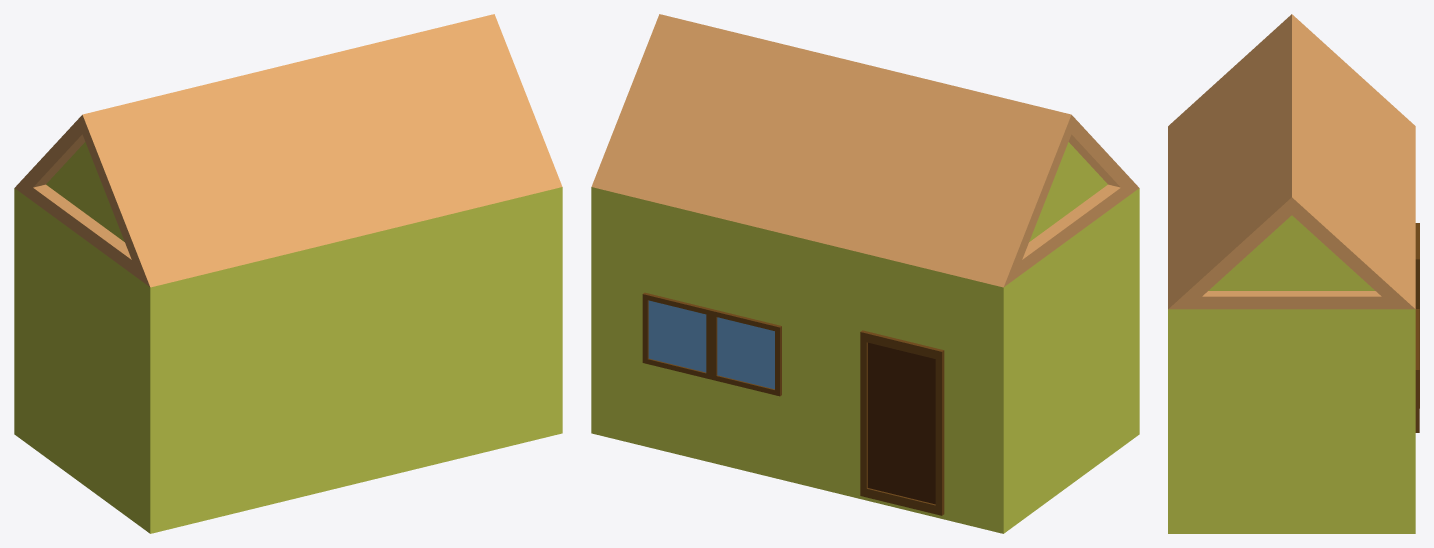
Rendered from House1.fbx.
3 renders of one model, left to right at view 1: azimuth 30°, elevation 25°; view 2: azimuth 150°, elevation 25°; view 3: azimuth 270°, elevation 25°, orthographic. The views are drawn at different scales.
Visible parts, largest first — view 1: House, Roof; view 2: House, Roof, Door, Window; view 3: Roof, House, Window, Door.
Boxes of the visible parts, x1,y1,x2,y2 form: House: (14,187,562,533); Roof: (15,14,562,287); House: (591,187,1139,533); Roof: (591,14,1138,287); Door: (860,330,944,515); Window: (642,292,781,396); Roof: (1168,14,1415,309); House: (1168,309,1415,533); Window: (1415,309,1419,432); Door: (1415,223,1419,408).
Size of the model in its own units: 700 by 600 by 407.
